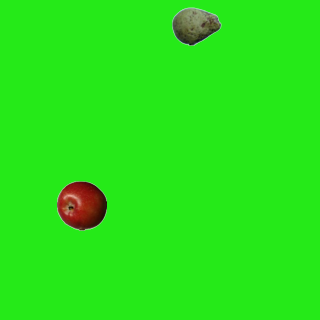Apple Braeburn: (56, 180, 106, 230)
Pear Stone: (171, 1, 221, 51)
